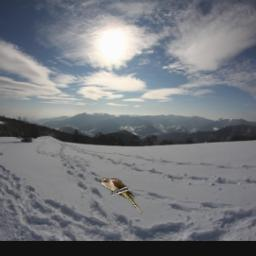Cuckoo: (98, 179, 145, 215)
